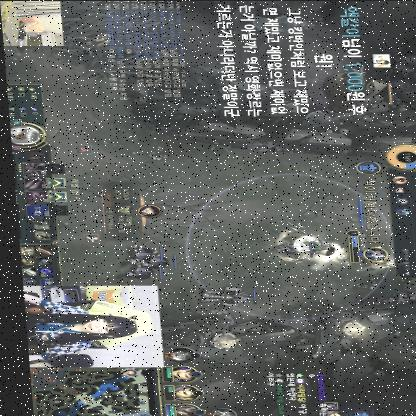donation: (203, 1, 402, 121)
streamer: (19, 290, 133, 361)
